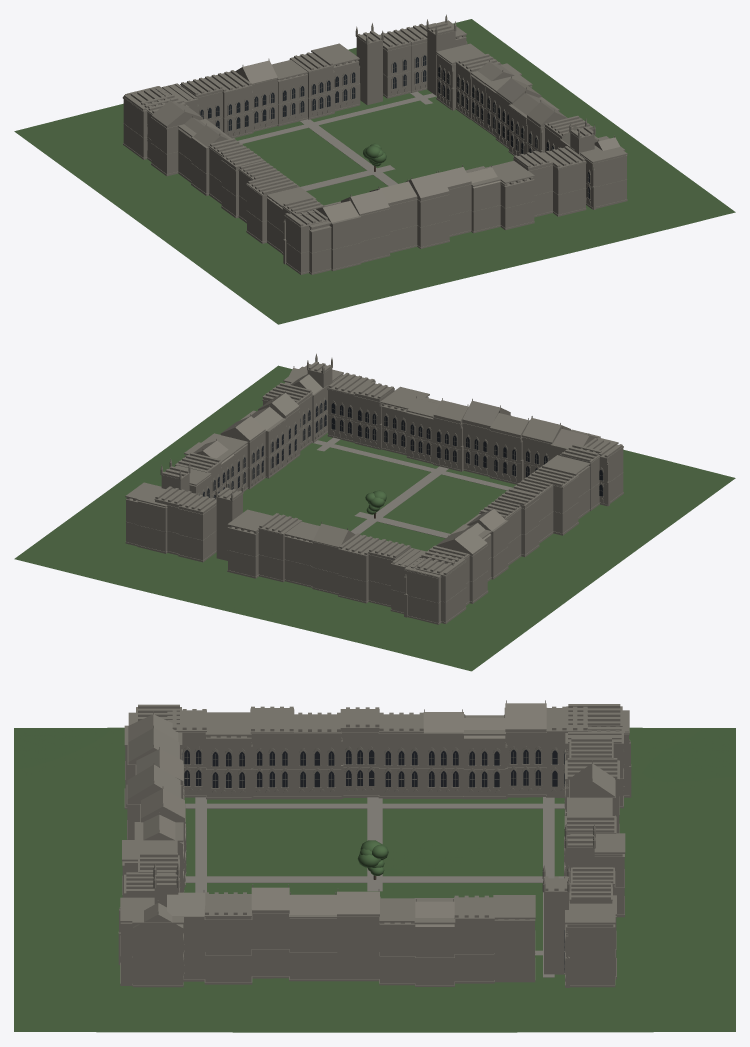
The model's file is quad.glb.
3 views of the same model, one above another, from view 1: azimuth 30°, elevation 25°; view 2: azimuth 150°, elevation 25°; view 3: azimuth 270°, elevation 25° (orthographic). The views are drawn at different scales.
Visible parts, largest first — view 1: Quad, Lawn, QuadGlass, Paths; view 2: Quad, Lawn, QuadGlass, Paths; view 3: Lawn, Quad, Paths, QuadGlass, TreeCanopy_3317.
Part boxes in pixels (x1=…): Quad: x1=122, y1=14, x2=627, y2=274; Lawn: x1=14, y1=19, x2=735, y2=324; QuadGlass: x1=200, y1=55, x2=589, y2=198; Paths: x1=238, y1=91, x2=436, y2=191; Quad: x1=125, y1=353, x2=623, y2=624; Lawn: x1=14, y1=365, x2=735, y2=671; QuadGlass: x1=199, y1=400, x2=602, y2=498; Paths: x1=312, y1=437, x2=512, y2=538; Lawn: x1=14, y1=727, x2=735, y2=1032; Quad: x1=118, y1=700, x2=631, y2=987; Paths: x1=185, y1=797, x2=564, y2=977; QuadGlass: x1=182, y1=749, x2=565, y2=972; TreeCanopy_3317: x1=357, y1=840, x2=388, y2=867.
Bounding box in the file's own units: 162 × 24.55 × 162.
